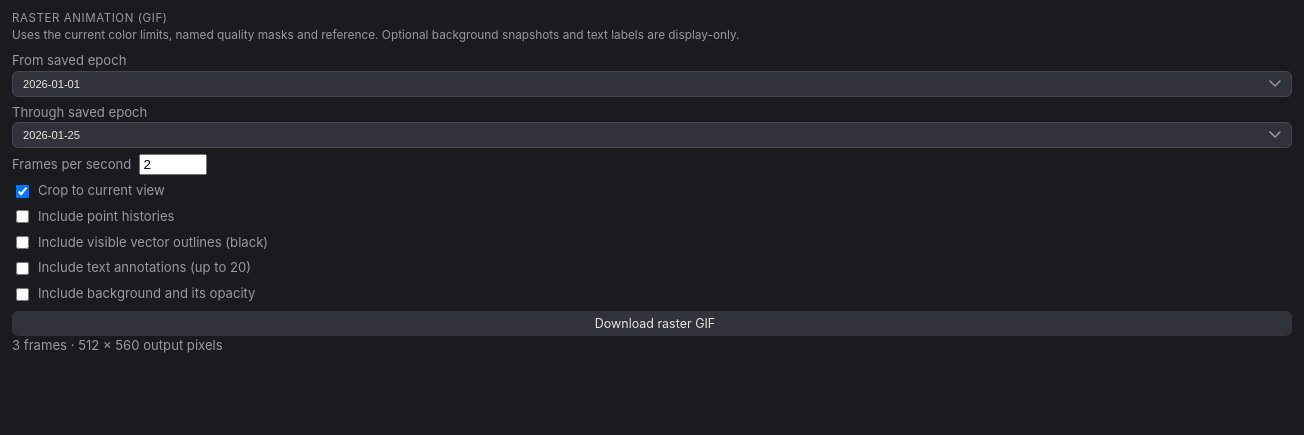
Scenario: vector outline limits › exports the small layer and still names the server-tiled one beside it
Expected: the button "Download raster GIF" is enabled, [12,311,1292,336]
Click the checkbox named "Include vector outlines in GIF".
click(22, 243)  # box [16,236,29,249]
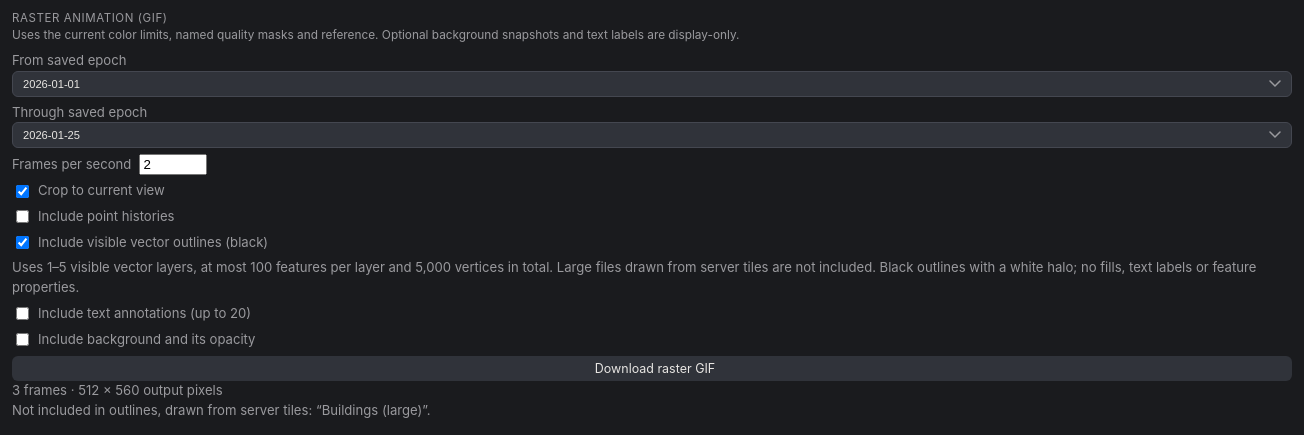
Expected: the button "Download raster GIF" is enabled, [12,356,1292,381]
Expected: the text "Not included in outlines, drawn from server tiles: “Buildings (large)”." is shown, [12,402,430,418]
